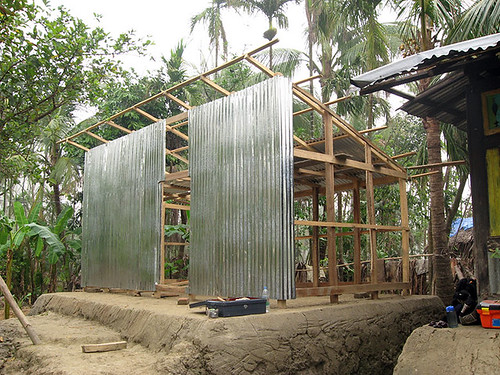building: (68, 74, 419, 299)
vegetation: (253, 1, 431, 139), (1, 15, 80, 288)
